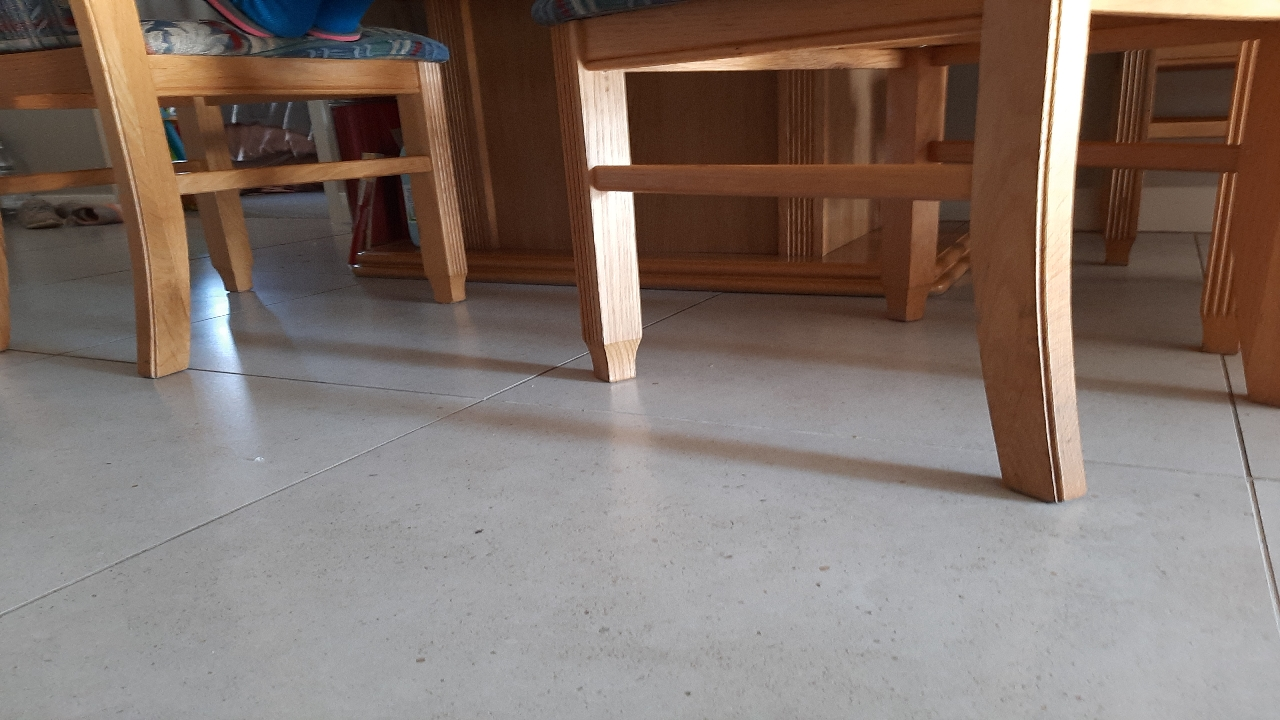chair: (95, 219, 1228, 545)
